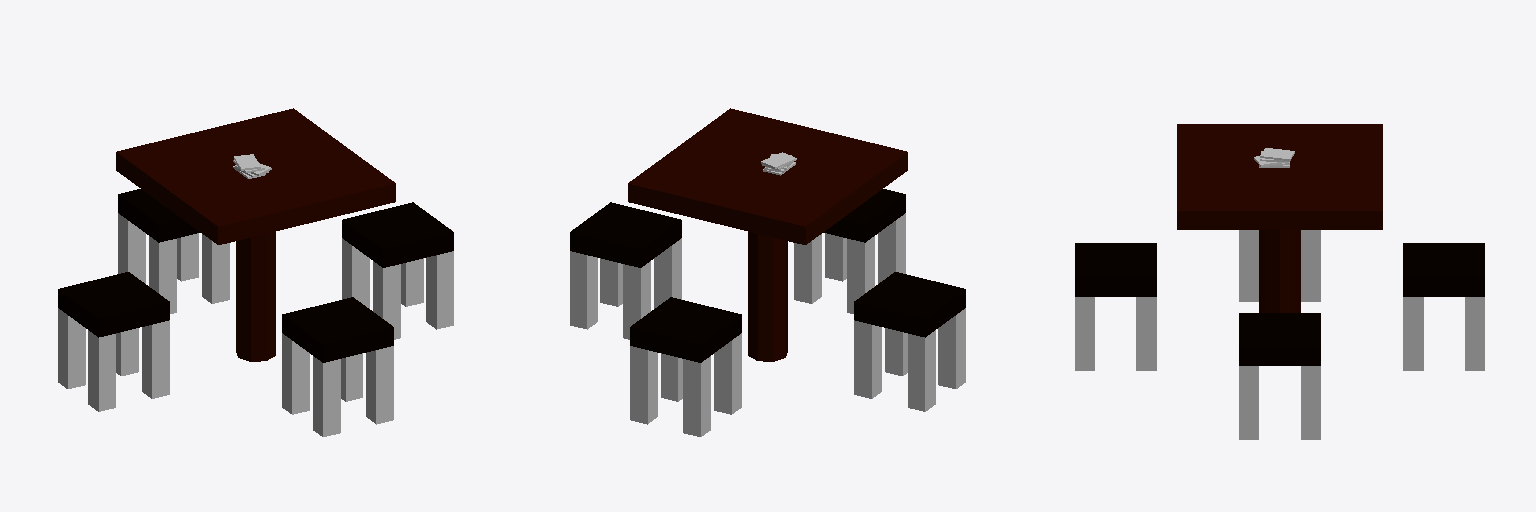
The model's file is PlaingCards.obj.
3 views of the same model, side by side, from view 1: azimuth 30°, elevation 25°; view 2: azimuth 150°, elevation 25°; view 3: azimuth 270°, elevation 25° (orthographic).
Visible parts, largest first — view 1: Table, Chair.002, Chair.003, Chair, Chair.001, Cards.004; view 2: Table, Chair.002, Chair.001, Chair, Chair.003, Cards.004; view 3: Table, Chair.001, Chair.003, Chair, Chair.002, Cards.004.
Boxes of the visible parts, x1=… form: Table: x1=116, y1=108, x2=395, y2=361; Chair.002: x1=58, y1=272, x2=169, y2=411; Chair.003: x1=282, y1=297, x2=393, y2=436; Chair: x1=342, y1=202, x2=453, y2=339; Chair.001: x1=118, y1=189, x2=229, y2=313; Cards.004: x1=233, y1=154, x2=271, y2=178; Table: x1=628, y1=108, x2=907, y2=361; Chair.002: x1=854, y1=272, x2=965, y2=411; Chair.001: x1=630, y1=297, x2=741, y2=436; Chair: x1=570, y1=202, x2=681, y2=339; Chair.003: x1=794, y1=189, x2=905, y2=313; Cards.004: x1=761, y1=152, x2=796, y2=175; Table: x1=1177, y1=124, x2=1382, y2=312; Chair.001: x1=1403, y1=243, x2=1484, y2=370; Chair.003: x1=1075, y1=243, x2=1156, y2=370; Chair: x1=1239, y1=313, x2=1320, y2=439; Chair.002: x1=1239, y1=230, x2=1320, y2=301; Cards.004: x1=1254, y1=148, x2=1294, y2=167.
Bounding box in the file's own units: 2 × 1.05 × 2.